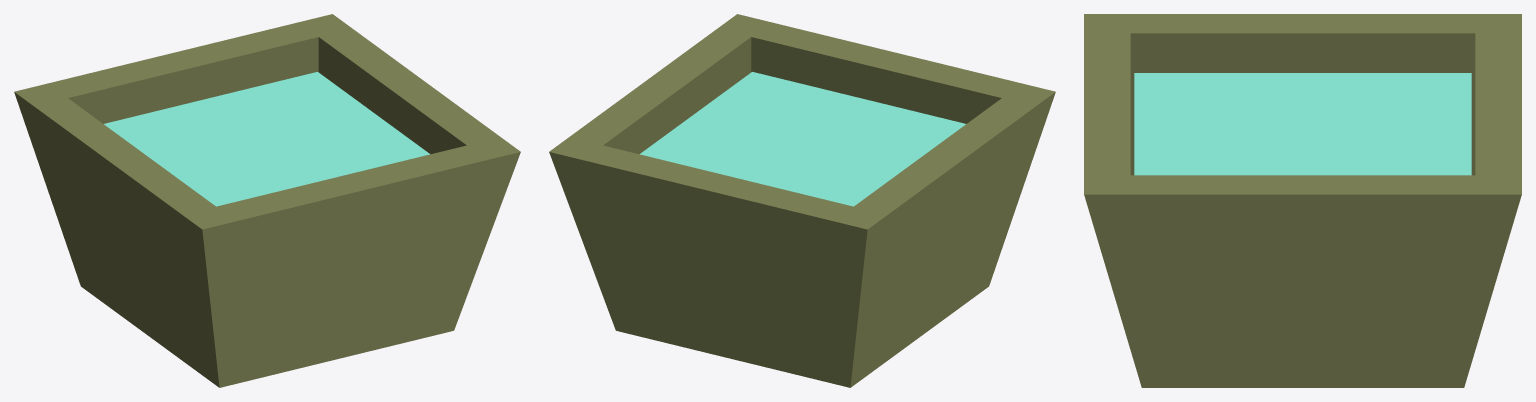
Rendered from Food Bowl 04.FBX.
3 renders of one model, left to right at view 1: azimuth 30°, elevation 25°; view 2: azimuth 150°, elevation 25°; view 3: azimuth 270°, elevation 25°, orthographic. The views are drawn at different scales.
Parts seen in each view (by area): view 1: Food Bowl 04; view 2: Food Bowl 04; view 3: Food Bowl 04.
Part boxes in pixels (<box>): Food Bowl 04: <box>14,14,520,387</box>; Food Bowl 04: <box>549,14,1055,387</box>; Food Bowl 04: <box>1084,14,1521,387</box>.
Size of the model in its own units: 103 by 57.62 by 105.
